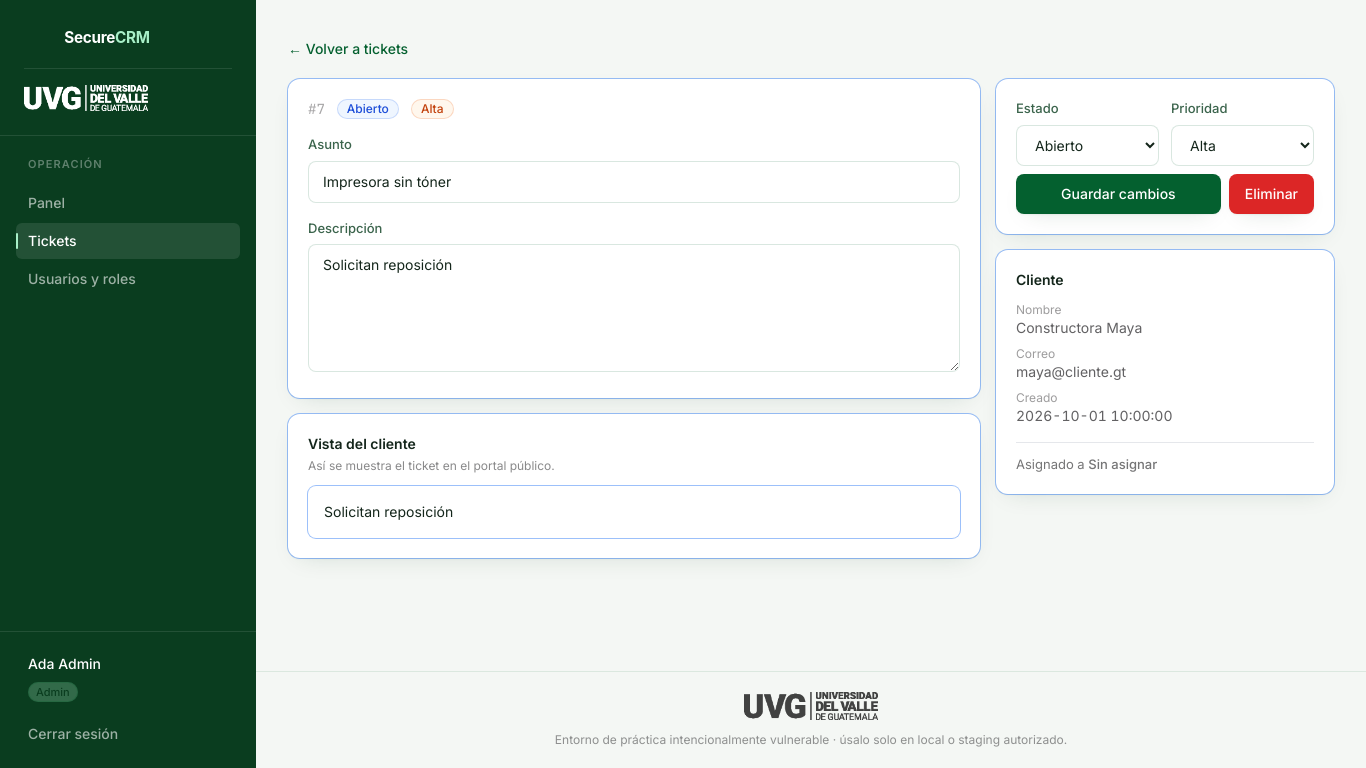
Test: /tickets/[id] › un error al guardar se muestra sin perder el formulario
Expected: the field showing "Impresora sin tóner" is shown, [308, 160, 960, 202]
Click the button "Guardar cambios" at (1118, 194), box [1016, 174, 1221, 214]
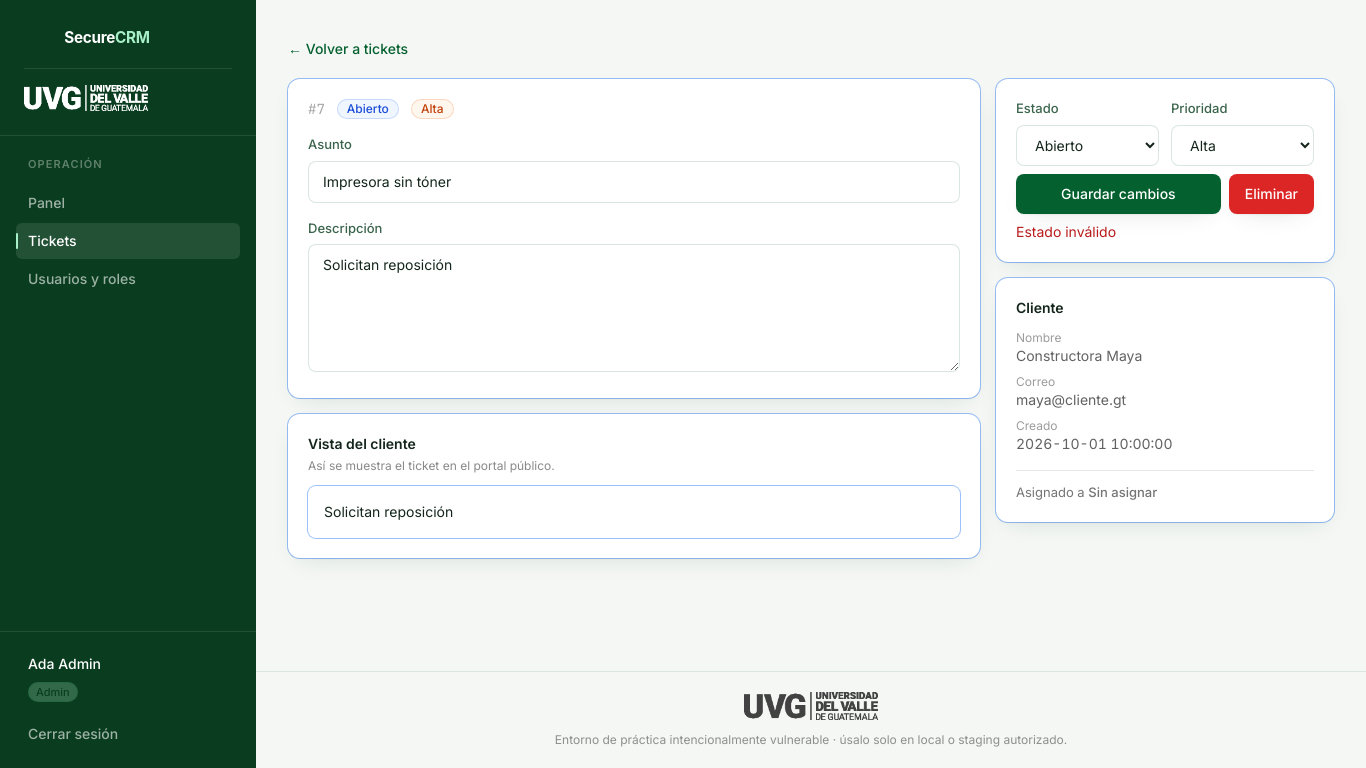
Expected: the field showing "Impresora sin tóner" is shown, [308, 160, 960, 202]
Expected: the text "Estado inválido" is shown, [1016, 222, 1116, 240]
